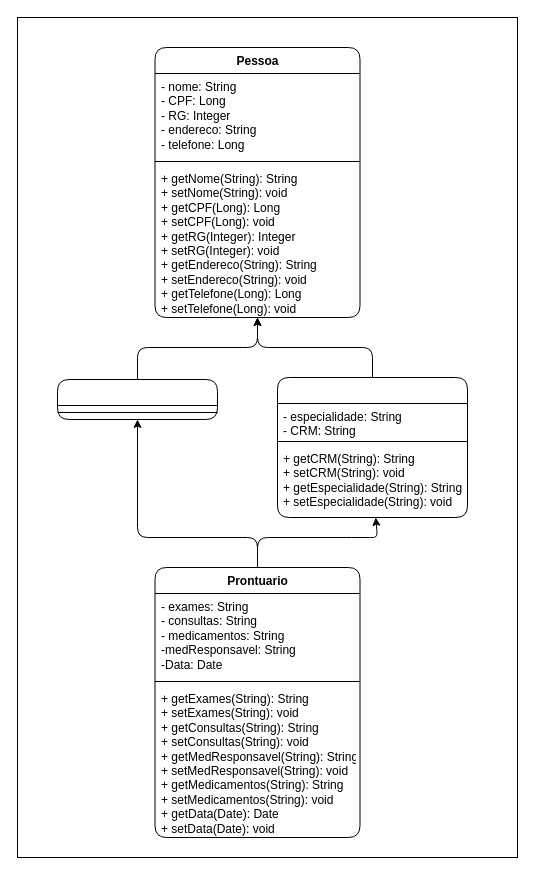
Image size: 535x875. Some labels were removed from this diagram. Here are the shapes that lost their labels. From the top down, the box of each, then its label:
(56, 378, 218, 420): Paciente
(276, 376, 468, 518): Medico
